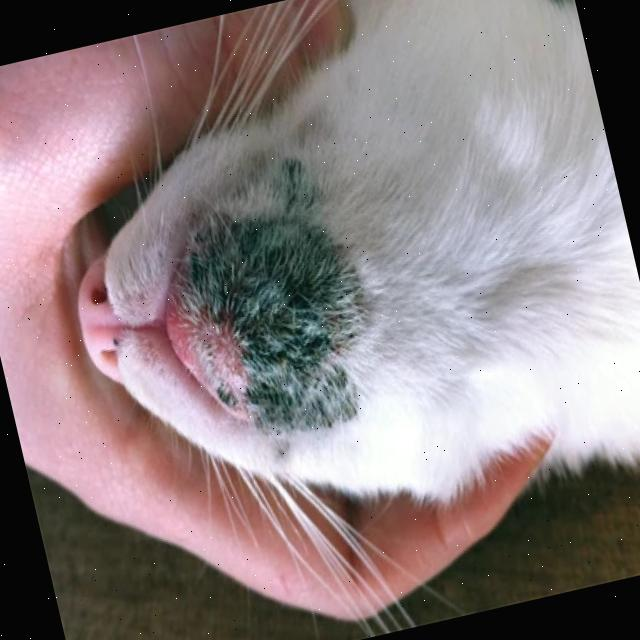cat-dermatitis: (157, 146, 383, 450)
